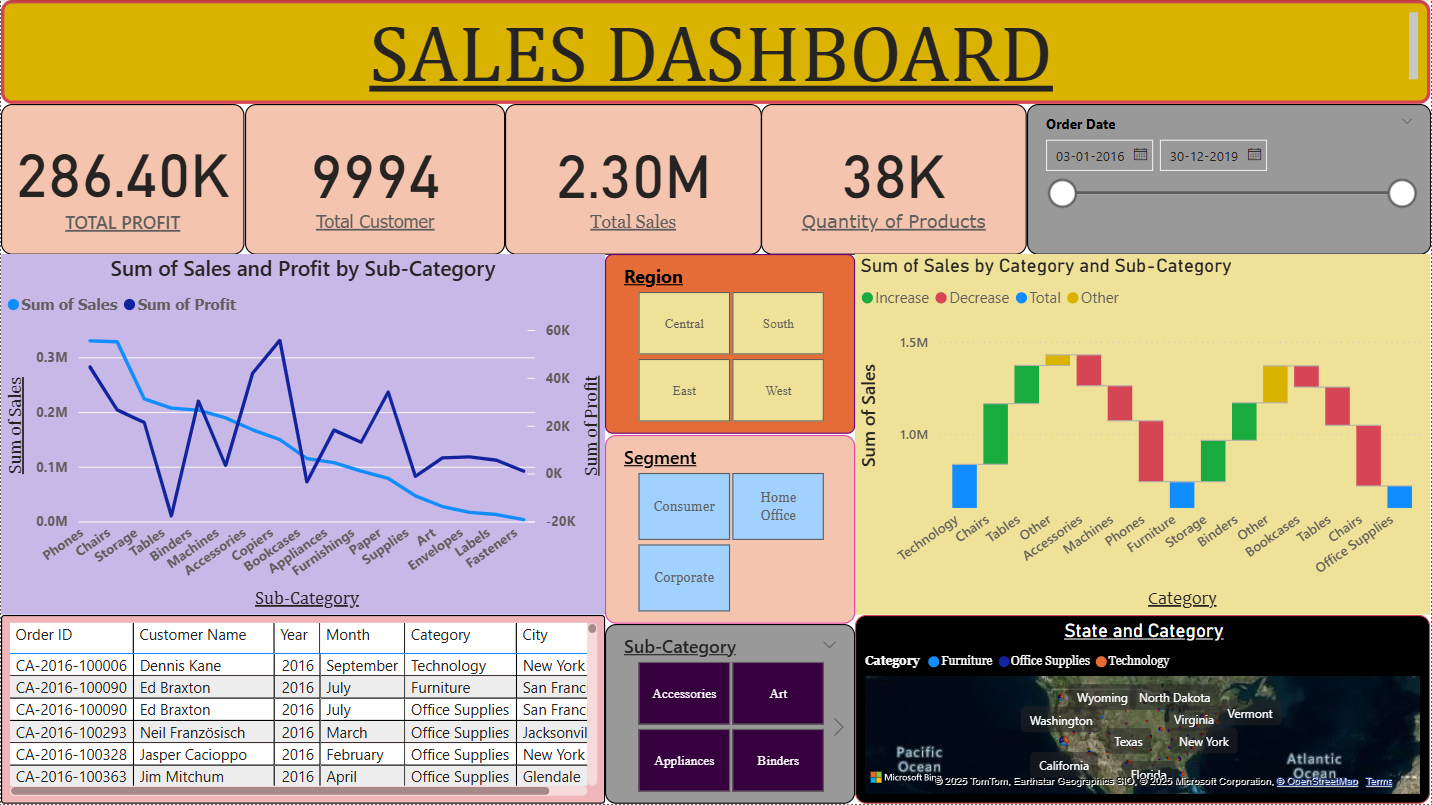

What the dashboard file says about the page in this screenshot:
{"tool":"powerbi","page":{"name":"Page 1","canvas":[1280,720],"ordinal":0},"visuals":[{"type":"card","fields":{"Values":["Sum(ORDERS.Profit)"]},"box":[0,93.1,218.1,134.8],"z":0},{"type":"textbox","box":[0,0,1280.4,93.1],"z":1000},{"type":"card","fields":{"Values":["Sum(ORDERS.Total Customers)"]},"box":[218.1,93.1,233.2,134.8],"z":2000},{"type":"card","fields":{"Values":["Sum(ORDERS.Sales)"]},"box":[451.3,93.1,229.7,134.8],"z":3000},{"type":"card","fields":{"Values":["Sum(ORDERS.Quantity)"]},"box":[681,93.1,237.6,134.8],"z":4000},{"type":"slicer","fields":{"Values":["ORDERS.Order Date"]},"box":[918.6,93.1,361.8,134.8],"z":5000},{"type":"lineChart","title":"Sum of Sales and Profit by Sub-Category","fields":{"Category":["ORDERS.Sub-Category"],"Y":["Sum(ORDERS.Sales)"],"Y2":["Sum(ORDERS.Profit)"]},"box":[0,227.9,540.9,322.8],"z":6000},{"type":"waterfallChart","fields":{"Category":["ORDERS.Category"],"Y":["Sum(ORDERS.Sales)"],"Breakdown":["ORDERS.Sub-Category"]},"box":[765.2,227.9,515.2,322.8],"z":7000},{"type":"tableEx","fields":{"Values":["ORDERS.Order ID","ORDERS.Customer Name","ORDERS.Ship Date.Variation.Date Hierarchy.Year","ORDERS.Ship Date.Variation.Date Hierarchy.Month","ORDERS.Category","ORDERS.City"]},"box":[0,550.6,540.9,169.4],"z":8000},{"type":"slicer","fields":{"Values":["ORDERS.Region"]},"box":[540.9,227.9,224.3,161.4],"z":9000},{"type":"slicer","fields":{"Values":["ORDERS.Segment"]},"box":[540.9,389.3,224.3,169.4],"z":10000},{"type":"slicer","fields":{"Values":["ORDERS.Sub-Category"]},"box":[540.9,558.6,224.3,161.4],"z":11000},{"type":"map","title":"State and Category","fields":{"Category":["ORDERS.State"],"Series":["ORDERS.Category"],"Size":["Sum(ORDERS.Sales)"]},"box":[765.2,550.6,515.2,169.4],"z":12000}]}

Visuals, with their boxes in screenshot pixels (x1, y1, x2, y2), scaled from the page's 1280x720 canvas onto the 1432x805 screenshot:
card - Sum(ORDERS.Profit): box=[0, 104, 244, 255]
textbox: box=[0, 0, 1431, 104]
card - Sum(ORDERS.Total Customers): box=[244, 104, 505, 255]
card - Sum(ORDERS.Sales): box=[505, 104, 762, 255]
card - Sum(ORDERS.Quantity): box=[762, 104, 1028, 255]
slicer - ORDERS.Order Date: box=[1028, 104, 1431, 255]
"Sum of Sales and Profit by Sub-Category" lineChart: box=[0, 255, 605, 616]
waterfallChart - ORDERS.Category x Sum(ORDERS.Sales): box=[856, 255, 1431, 616]
tableEx - ORDERS.Order ID x ORDERS.Customer Name: box=[0, 616, 605, 804]
slicer - ORDERS.Region: box=[605, 255, 856, 435]
slicer - ORDERS.Segment: box=[605, 435, 856, 625]
slicer - ORDERS.Sub-Category: box=[605, 625, 856, 804]
"State and Category" map: box=[856, 616, 1431, 804]
